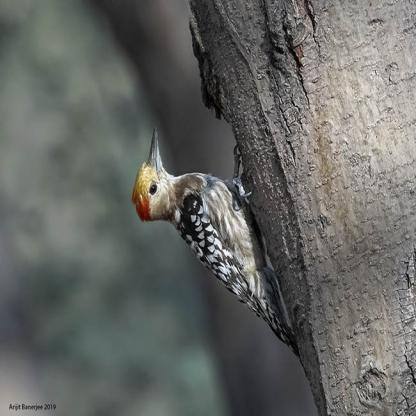Burung: (132, 127, 298, 352)
